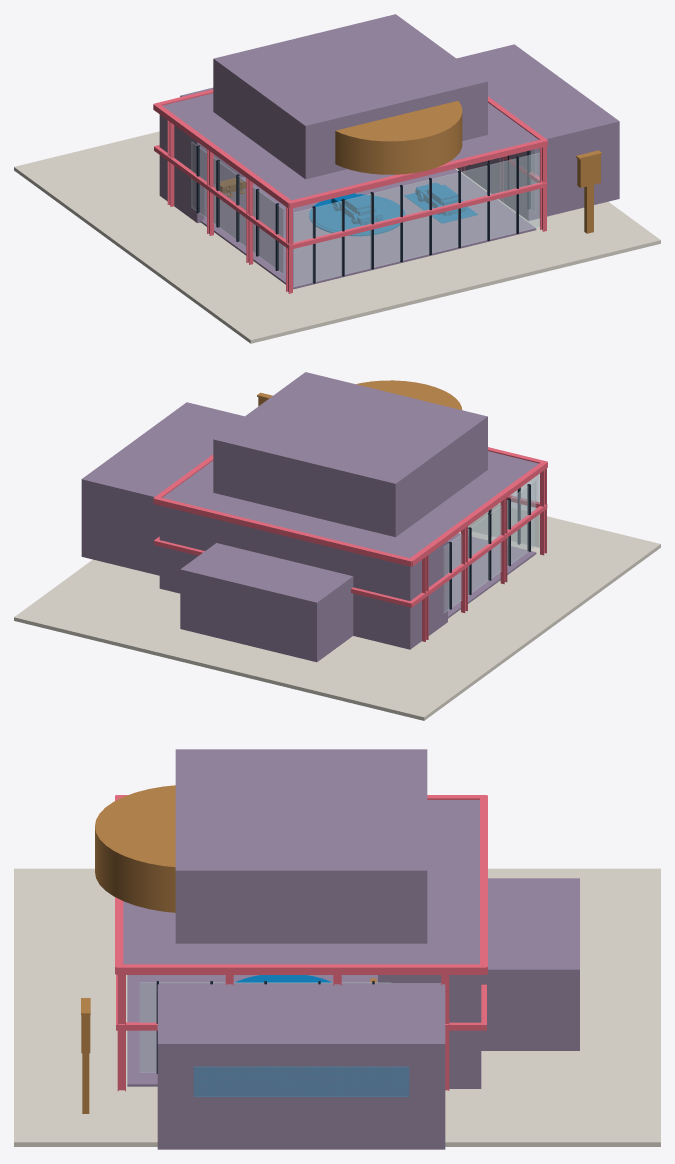
The model's file is hq_14_marketing_l3.glb.
3 renders of one model, top to bottom at view 1: azimuth 30°, elevation 25°; view 2: azimuth 150°, elevation 25°; view 3: azimuth 270°, elevation 25°, orthographic. The views are drawn at different scales.
Parts seen in each view (by area): view 1: GEO_Marketing_Foundation_Plinth, GEO_Marketing_Auditorium_Shell, GEO_Marketing_Showroom_Brick_Halls, GEO_Marketing_Showroom_Glass_Curtain, GEO_Marketing_Heritage_Vault_Brick, GEO_Marketing_Structural_Columns, GEO_Marketing_Auditorium_Seating_Stage, GEO_Marketing_Showroom_Glass_Mullions, GEO_Marketing_Turntable_Display_Car, GEO_Marketing_Customer_Lounge, GEO_Marketing_Showroom_Floor_Car; view 2: GEO_Marketing_Foundation_Plinth, GEO_Marketing_Showroom_Brick_Halls, GEO_Marketing_Auditorium_Shell, GEO_Marketing_Heritage_Vault_Brick, GEO_Marketing_Structural_Columns, GEO_Marketing_Showroom_Glass_Curtain, GEO_Marketing_Showroom_Glass_Mullions, GEO_Marketing_Auditorium_Seating_Stage; view 3: GEO_Marketing_Foundation_Plinth, GEO_Marketing_Auditorium_Shell, GEO_Marketing_Heritage_Vault_Brick, GEO_Marketing_Showroom_Brick_Halls, GEO_Marketing_Structural_Columns, GEO_Marketing_Auditorium_Seating_Stage, GEO_Marketing_Vault_Ribbon_Glass, GEO_Marketing_Showroom_Glass_Curtain, GEO_Marketing_Customer_Lounge, GEO_Marketing_Turntable_Display_Car.
Boxes of the visible parts, <box> form: GEO_Marketing_Foundation_Plinth: <box>14,131,660,343</box>; GEO_Marketing_Auditorium_Shell: <box>213,14,487,179</box>; GEO_Marketing_Showroom_Brick_Halls: <box>159,87,538,289</box>; GEO_Marketing_Showroom_Glass_Curtain: <box>191,142,539,286</box>; GEO_Marketing_Heritage_Vault_Brick: <box>456,44,619,220</box>; GEO_Marketing_Structural_Columns: <box>153,89,547,293</box>; GEO_Marketing_Auditorium_Seating_Stage: <box>335,101,462,174</box>; GEO_Marketing_Showroom_Glass_Mullions: <box>196,145,530,283</box>; GEO_Marketing_Turntable_Display_Car: <box>309,193,405,236</box>; GEO_Marketing_Customer_Lounge: <box>216,150,602,233</box>; GEO_Marketing_Showroom_Floor_Car: <box>404,182,477,223</box>; GEO_Marketing_Foundation_Plinth: <box>14,504,660,720</box>; GEO_Marketing_Showroom_Brick_Halls: <box>159,451,538,662</box>; GEO_Marketing_Auditorium_Shell: <box>213,372,487,537</box>; GEO_Marketing_Heritage_Vault_Brick: <box>81,402,244,575</box>; GEO_Marketing_Structural_Columns: <box>153,447,547,641</box>; GEO_Marketing_Showroom_Glass_Curtain: <box>443,474,539,613</box>; GEO_Marketing_Showroom_Glass_Mullions: <box>448,484,530,609</box>; GEO_Marketing_Auditorium_Seating_Stage: <box>356,380,462,409</box>; GEO_Marketing_Foundation_Plinth: <box>14,868,660,1146</box>; GEO_Marketing_Auditorium_Shell: <box>175,749,427,943</box>; GEO_Marketing_Heritage_Vault_Brick: <box>157,983,445,1149</box>; GEO_Marketing_Showroom_Brick_Halls: <box>123,800,579,1088</box>; GEO_Marketing_Structural_Columns: <box>115,795,487,1091</box>; GEO_Marketing_Auditorium_Seating_Stage: <box>95,785,175,912</box>; GEO_Marketing_Vault_Ribbon_Glass: <box>193,1066,409,1096</box>; GEO_Marketing_Showroom_Glass_Curtain: <box>139,982,390,1072</box>; GEO_Marketing_Customer_Lounge: <box>81,978,376,1113</box>; GEO_Marketing_Turntable_Display_Car: <box>234,975,332,982</box>.
Size of what is drawn, in the model's own units: 37.1 by 12.3 by 36.
